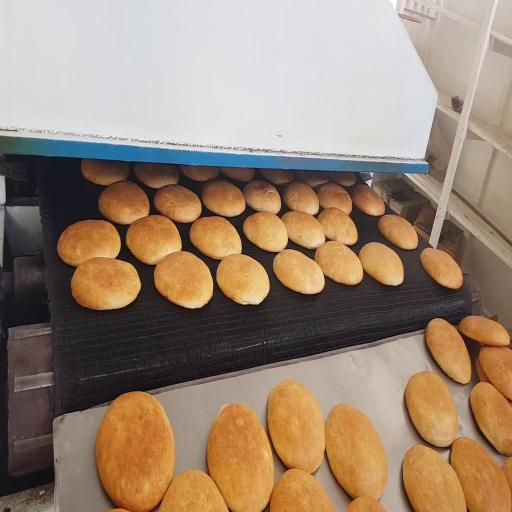bread: (96, 392, 174, 511), (207, 404, 274, 511), (326, 404, 387, 499), (268, 381, 325, 473), (451, 438, 511, 511), (403, 445, 466, 511), (405, 371, 458, 447), (71, 258, 141, 310), (154, 251, 213, 308), (470, 382, 511, 456), (426, 319, 471, 383), (58, 220, 120, 266), (126, 215, 181, 265), (160, 470, 227, 511), (270, 469, 334, 511), (217, 255, 269, 304), (273, 249, 324, 294), (99, 181, 149, 224), (190, 217, 241, 259), (315, 241, 363, 285), (359, 242, 403, 285), (154, 185, 201, 223), (243, 212, 287, 252), (421, 248, 463, 289), (479, 346, 511, 399), (282, 211, 325, 249), (201, 180, 245, 217), (459, 316, 509, 346), (318, 208, 357, 245), (379, 215, 418, 249), (243, 180, 281, 213), (81, 159, 129, 185), (283, 181, 319, 215), (134, 163, 179, 188), (316, 183, 352, 214), (352, 185, 385, 216), (179, 165, 219, 181), (260, 169, 294, 185), (347, 497, 385, 511), (295, 171, 328, 187), (221, 168, 255, 182), (328, 171, 356, 187), (475, 355, 490, 383), (502, 458, 511, 492)
